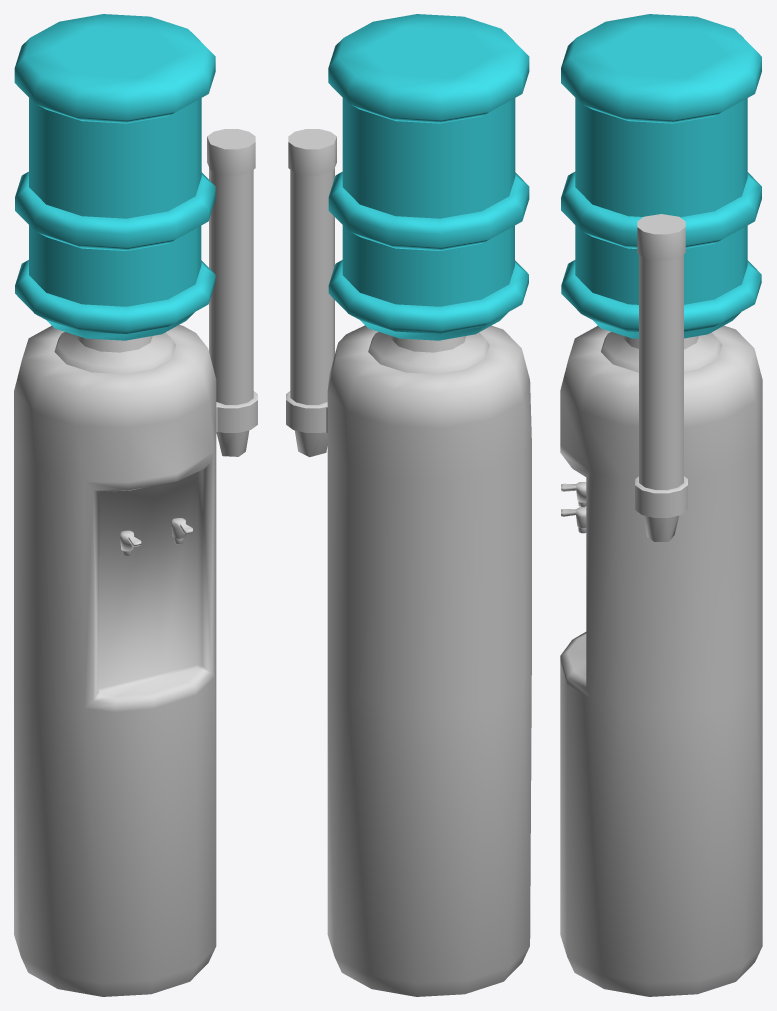
File: SM_WaterCooler_LOD1.fbx
The picture shows the model from 3 angles, left to right: view 1: azimuth 30°, elevation 25°; view 2: azimuth 150°, elevation 25°; view 3: azimuth 270°, elevation 25°; orthographic projection.
Parts seen in each view (by area): view 1: Water_Cooler_LOD1; view 2: Water_Cooler_LOD1; view 3: Water_Cooler_LOD1.
Boxes of the visible parts, bbox=[...] form: Water_Cooler_LOD1: bbox=[14, 14, 257, 996]; Water_Cooler_LOD1: bbox=[286, 14, 531, 996]; Water_Cooler_LOD1: bbox=[560, 14, 762, 996].
Size of the model in its own units: 56.63 by 216 by 43.76.
